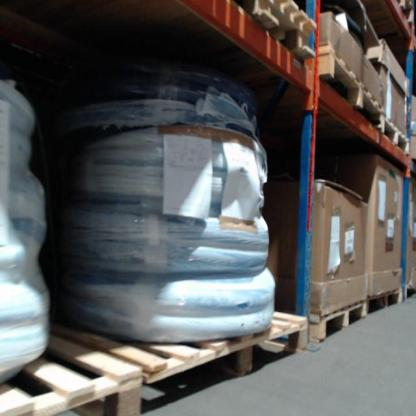pallet: (55, 305, 310, 413), (0, 324, 140, 413), (318, 44, 382, 132), (229, 2, 317, 63), (306, 297, 369, 346), (381, 108, 411, 160), (367, 285, 404, 316)
